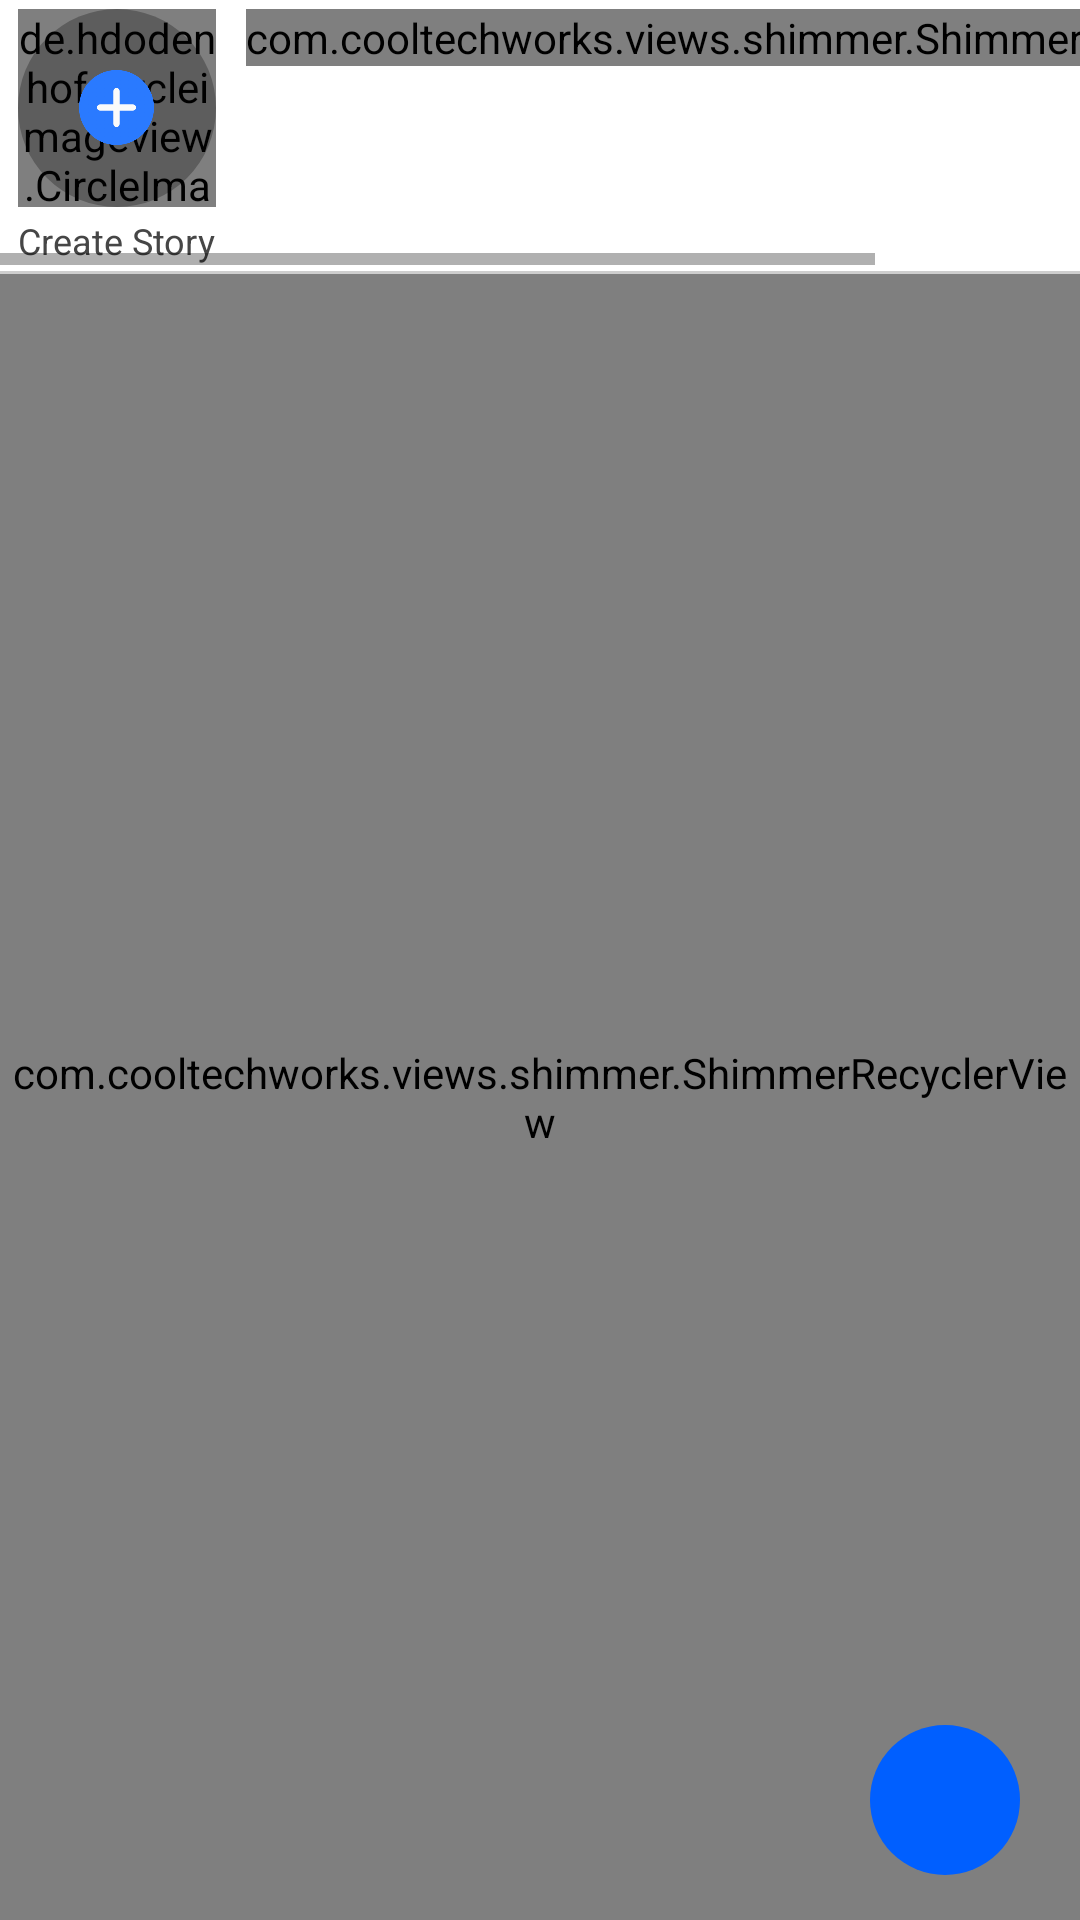

Icons on this 1080px×1920px Android screen, each with the point to tap as (x,y):
add story: (116,107)
